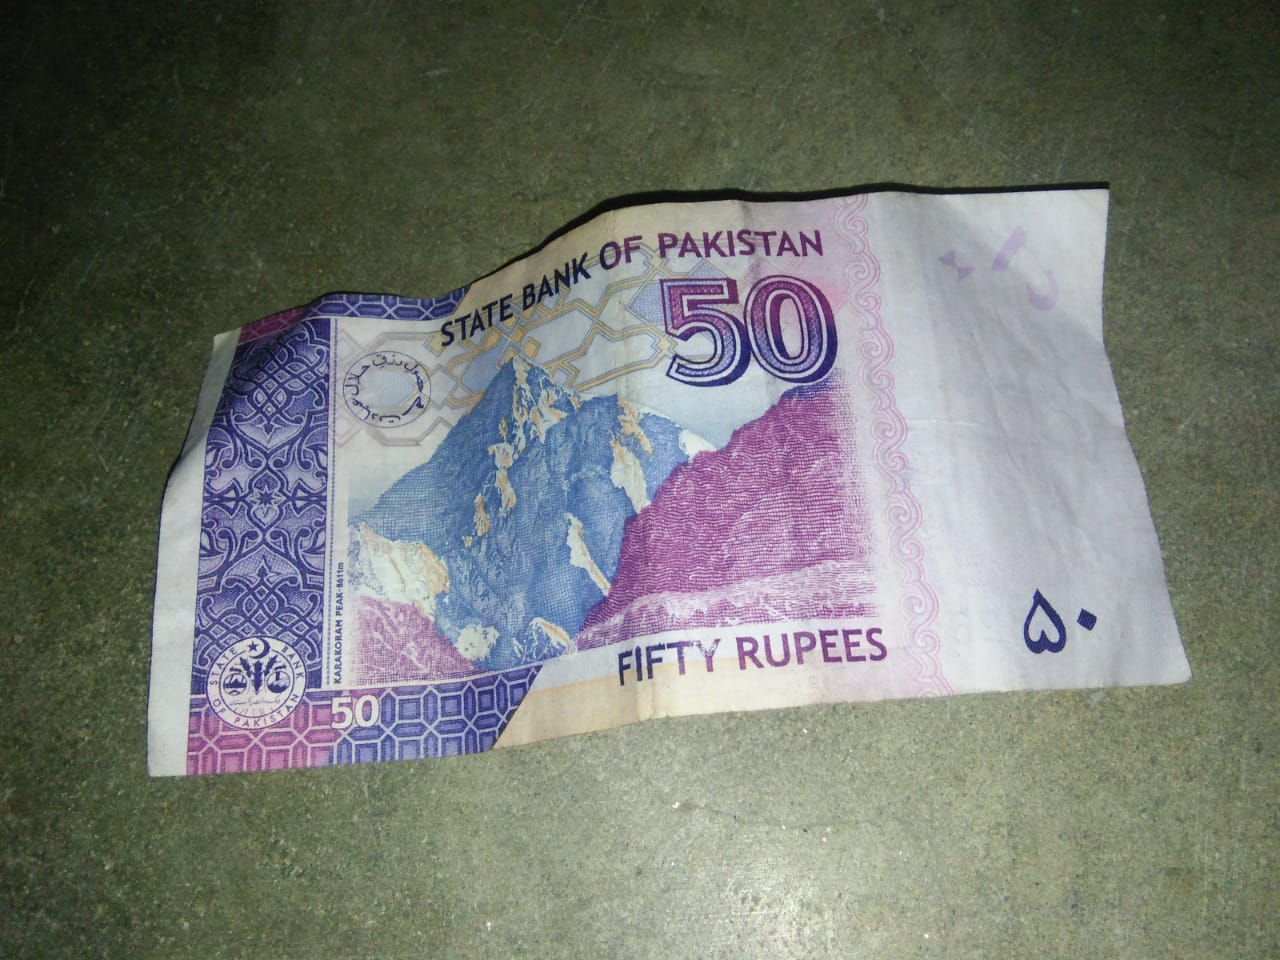50 rupee: (138, 182, 1181, 784)
